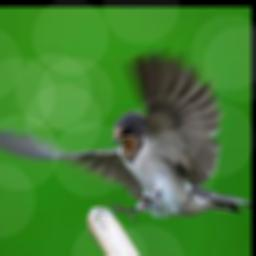Swallow: (0, 48, 247, 221)
